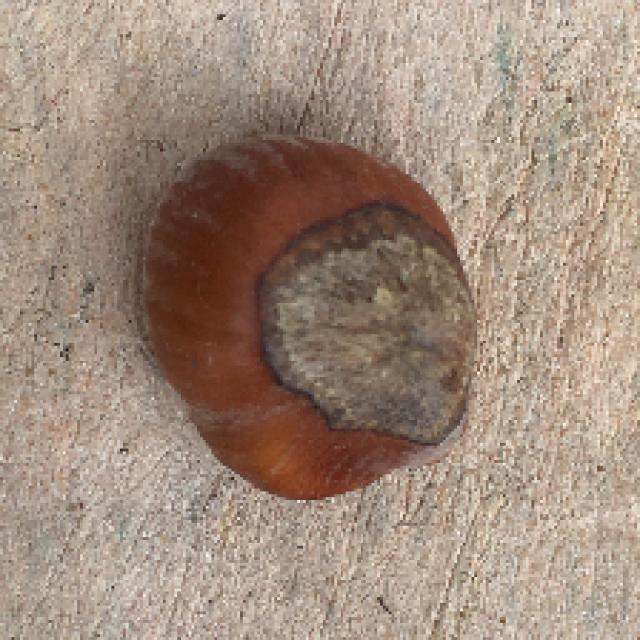qualityHazelnut: (140, 130, 480, 518)
